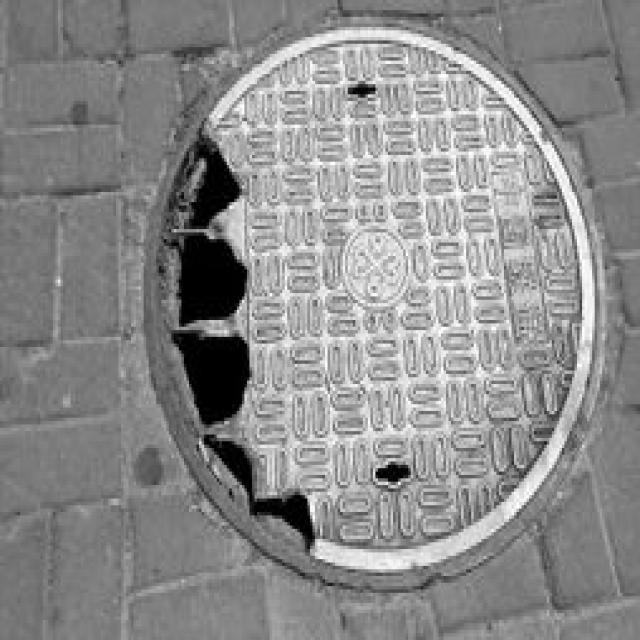manhole: (175, 28, 596, 566)
